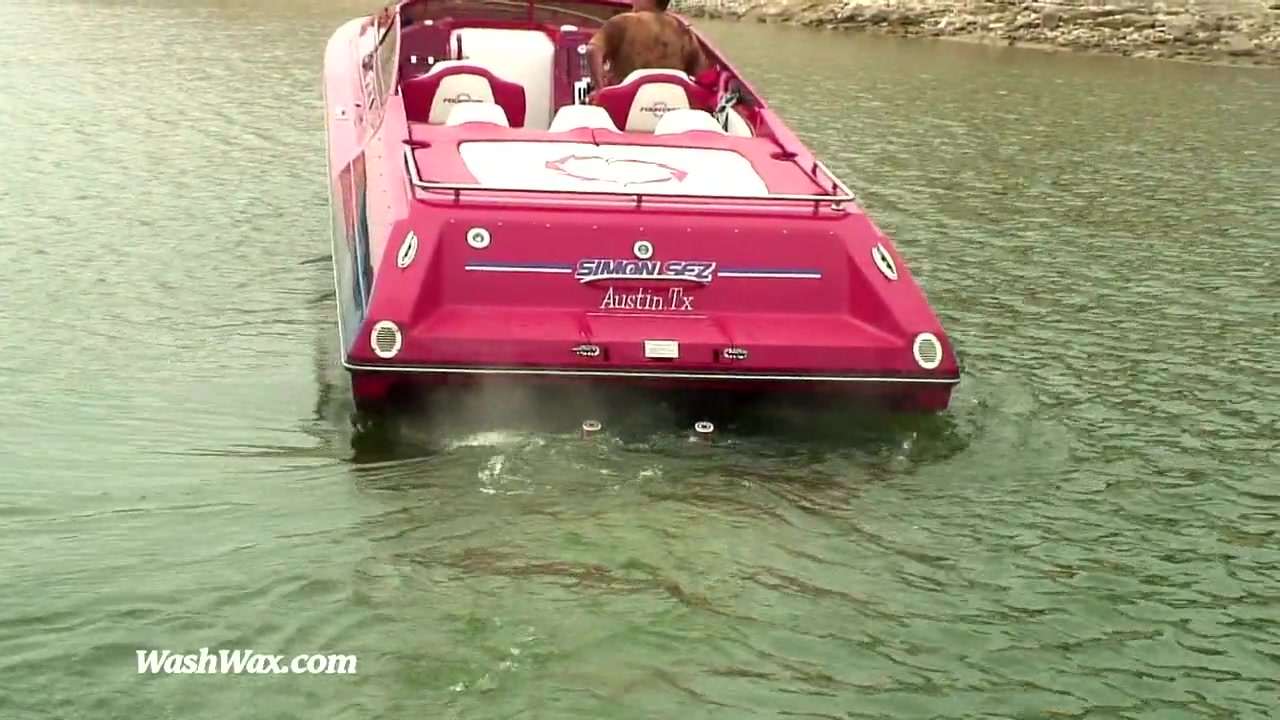boat: (321, 1, 964, 449)
